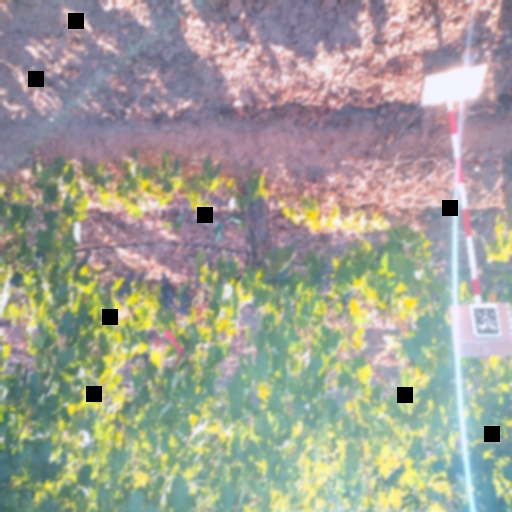QR: (473, 304, 499, 333)
